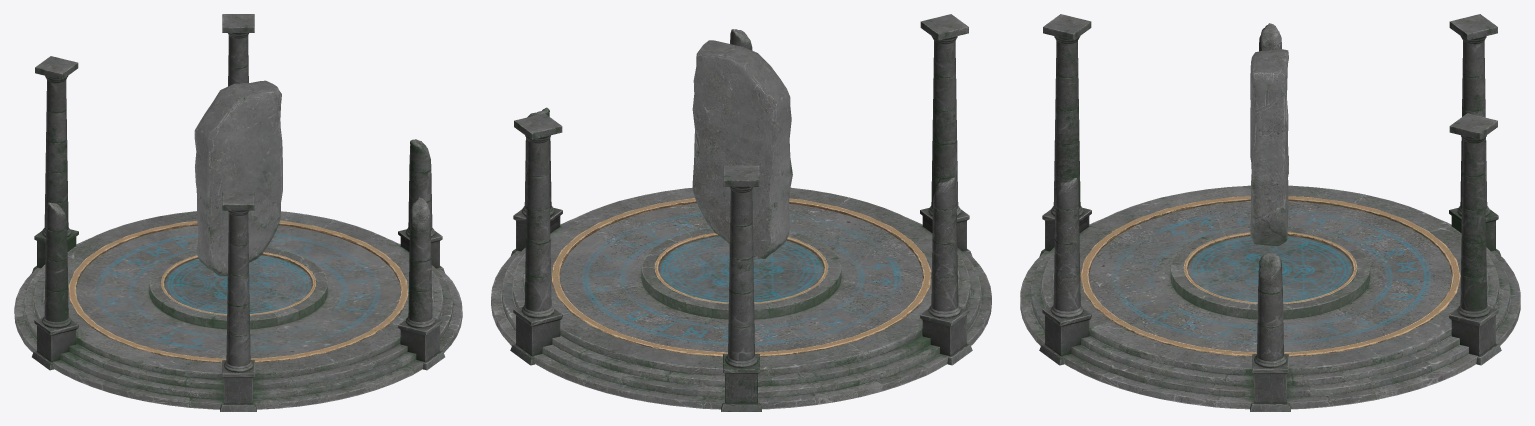
Rendered from PRP_Waypoint_Gen.glb.
3 renders of one model, left to right at view 1: azimuth 30°, elevation 25°; view 2: azimuth 150°, elevation 25°; view 3: azimuth 270°, elevation 25°, orthographic. The views are drawn at different scales.
Parts seen in each view (by area): view 1: stone_platform_0, top_pillars_0; view 2: stone_platform_0, top_pillars_0; view 3: stone_platform_0, top_pillars_0.
Part boxes in pixels (<box>): stone_platform_0: <box>14,80,462,409</box>; top_pillars_0: <box>32,14,444,411</box>; stone_platform_0: <box>491,40,991,409</box>; top_pillars_0: <box>510,14,972,411</box>; stone_platform_0: <box>1020,49,1520,409</box>; top_pillars_0: <box>1039,14,1501,411</box>.
Size of the model in its own units: 11.2 by 6.11 by 10.98.
Materials: 2 (2 with a texture image).
